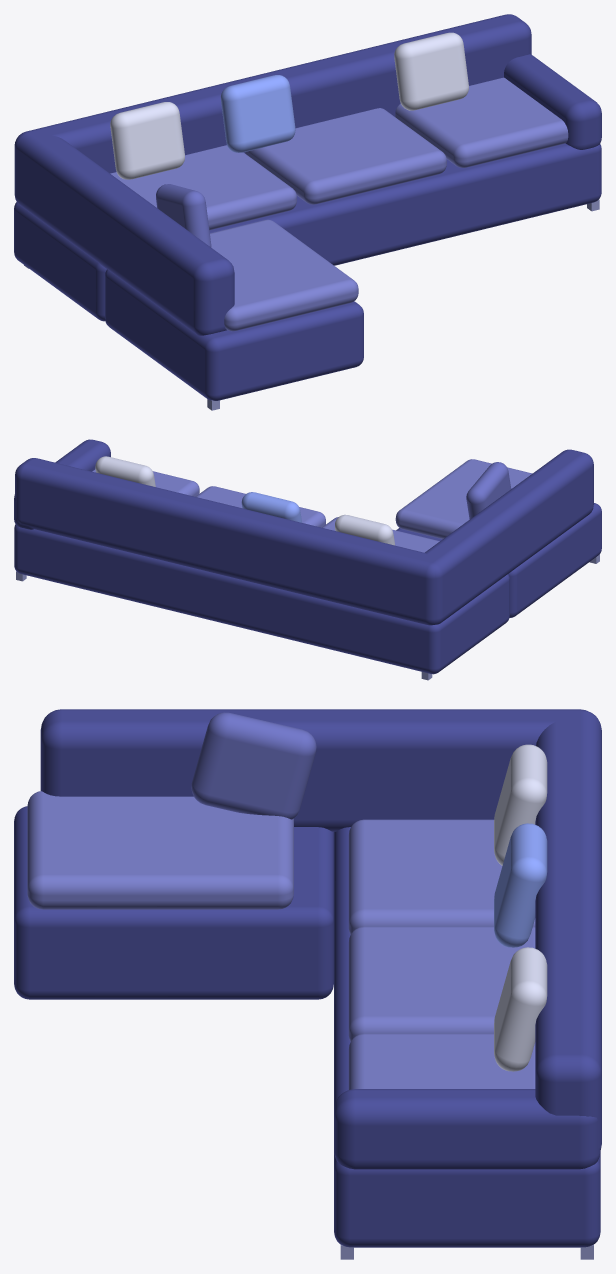
Rendered from sofaModern.glb.
3 views of the same model, one above another, from view 1: azimuth 30°, elevation 25°; view 2: azimuth 150°, elevation 25°; view 3: azimuth 270°, elevation 25° (orthographic). The views are drawn at different scales.
Visible parts, largest first — view 1: baseLong, backShort, backLong, baseShort, seat1, seatS, seat2, seat0, pillow1, pillow2, pillow0, armR (+1 smaller); view 2: backLong, baseLong, backShort, baseShort, seatS, pillow3, armR, pillow2, pillow1, pillow0, seat1, seat0 (+1 smaller); view 3: backShort, baseShort, seatS, baseLong, backLong, armR, seat1, seat0, pillow3, seat2, pillow2, pillow1 (+1 smaller).
Part boxes in pixels (x1,y1,x2,y2): baseLong: (14,143,601,321); backShort: (14,132,234,335); backLong: (18,14,531,173); baseShort: (105,269,363,400); seat1: (245,108,446,204); seatS: (210,219,358,331); seat2: (395,77,568,167); seat0: (110,145,296,230); pillow1: (220,75,295,152); pillow2: (394,32,468,110); pillow0: (110,102,184,179); armR: (504,54,601,149); backLong: (15,458,436,625); baseLong: (14,524,509,674); backShort: (423,449,593,624); baseShort: (396,503,601,617); seatS: (395,459,532,538); pillow3: (466,462,511,519); armR: (14,439,110,529); pillow2: (95,456,155,486); pillow1: (241,492,302,522); pillow0: (335,514,395,545); seat1: (195,486,325,527); seat0: (322,517,439,552); backShort: (40,709,585,831); baseShort: (14,806,333,999); seatS: (27,791,293,909); baseLong: (334,827,600,1247); backLong: (535,710,601,1150); armR: (334,1089,600,1169); seat1: (348,926,535,1041); seat0: (348,819,535,934); pillow3: (191,712,316,819); seat2: (348,1033,535,1089); pillow2: (494,947,547,1071); pillow1: (494,823,547,947).
Size of the model in its own units: 3.21 by 0.9407 by 2.21.
